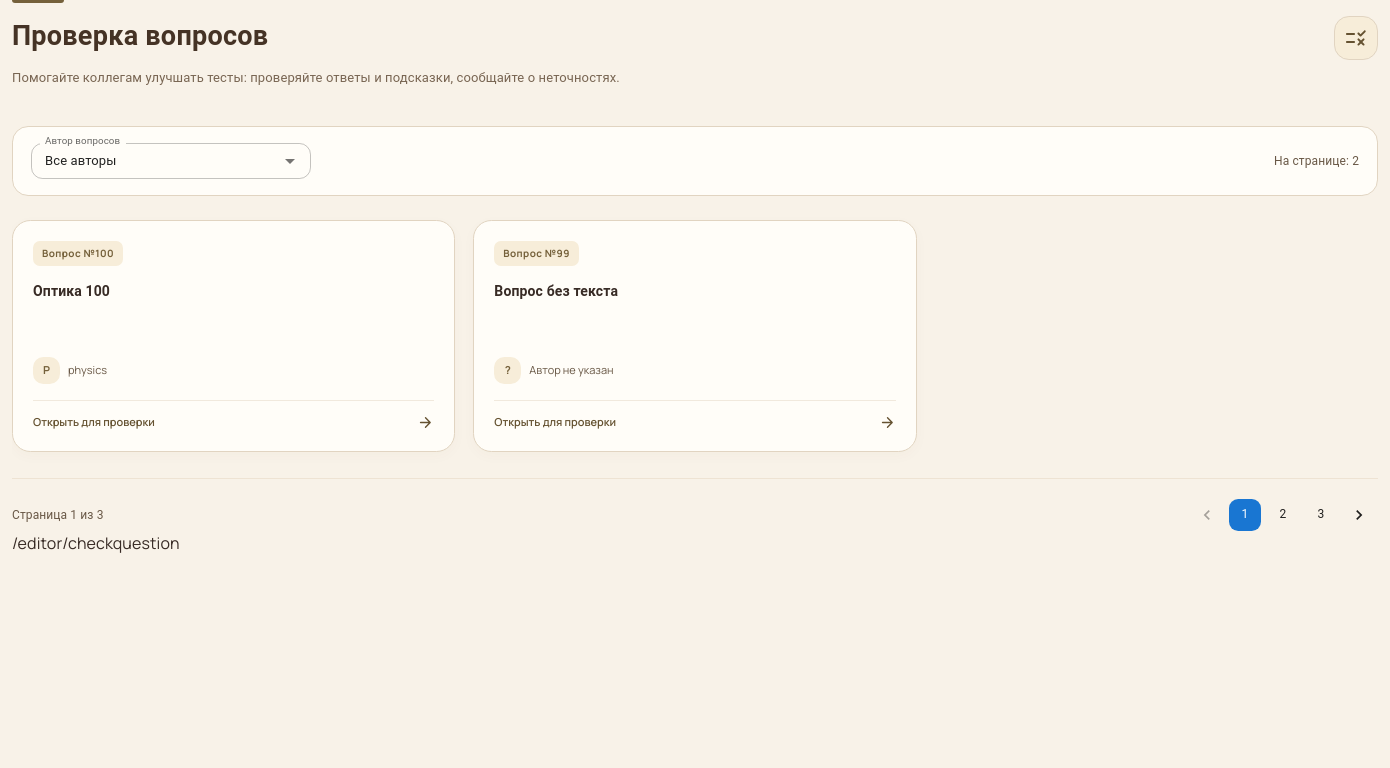
Test: network failures retry the selected filters and empty results can refresh
Click the button named "Выбрать автора". click: (290, 161)
box: x1=276 y1=147 x2=304 y2=175
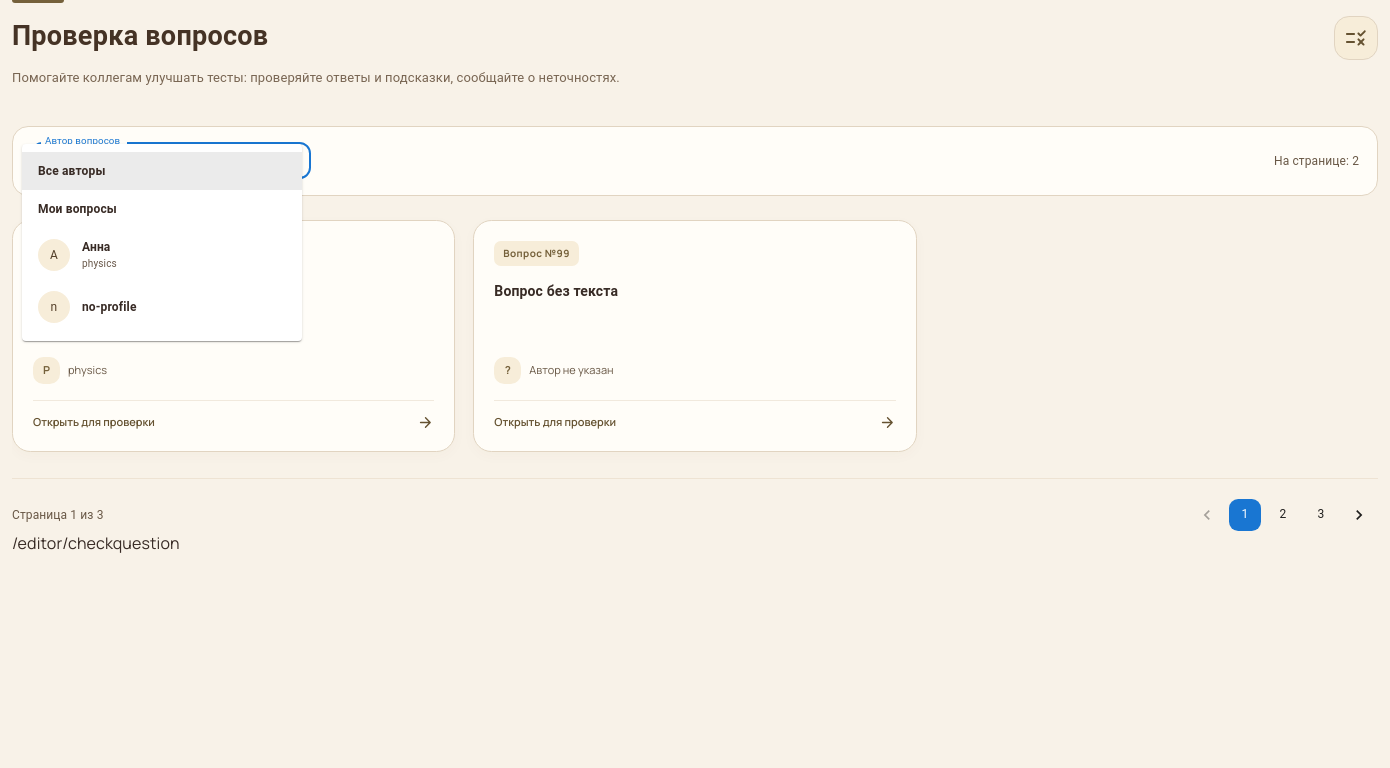
Click the option "А Анна physics". click: (54, 254)
box: x1=38 y1=238 x2=117 y2=270
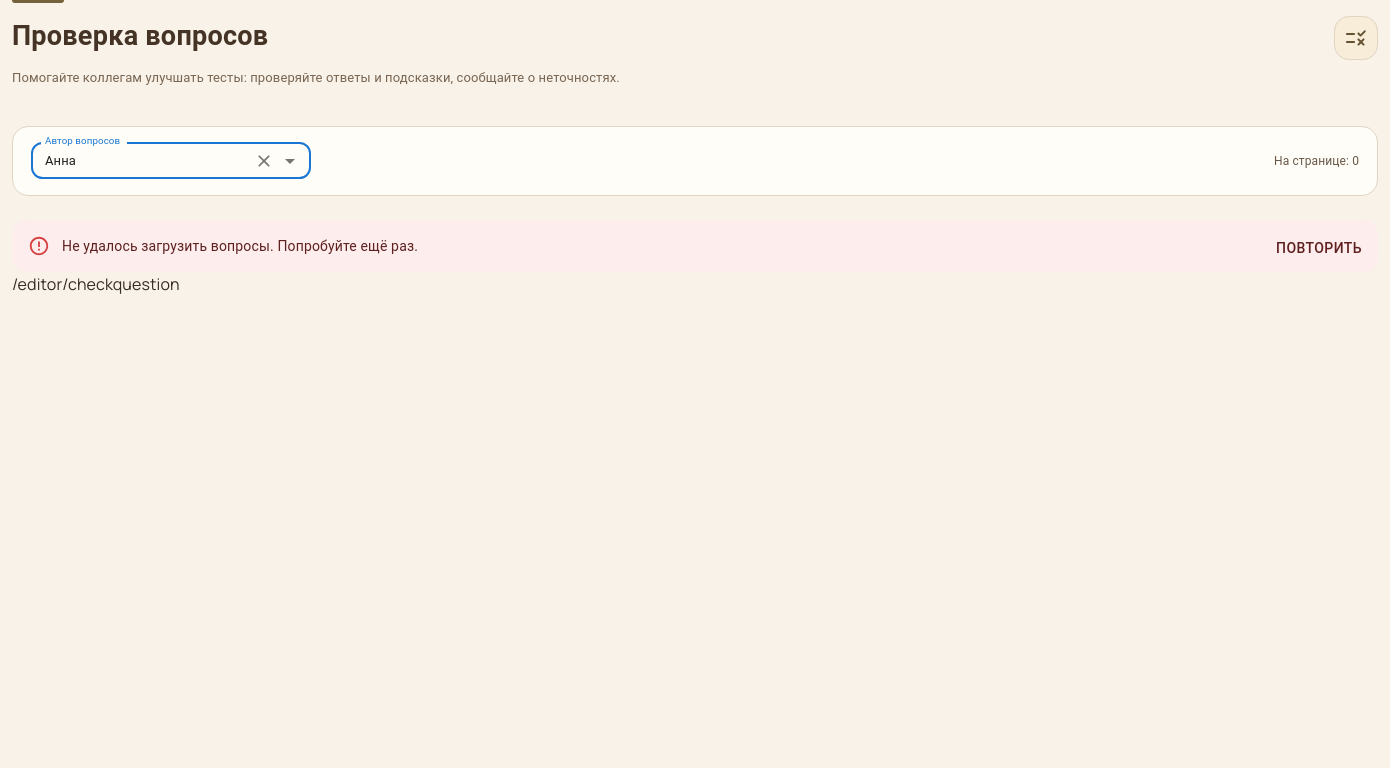
Expected: the text "Не удалось загрузить вопросы" is shown, x1=62 y1=238 x2=418 y2=254
Click the button "Повторить". click: (1319, 248)
box: x1=1268 y1=230 x2=1370 y2=266
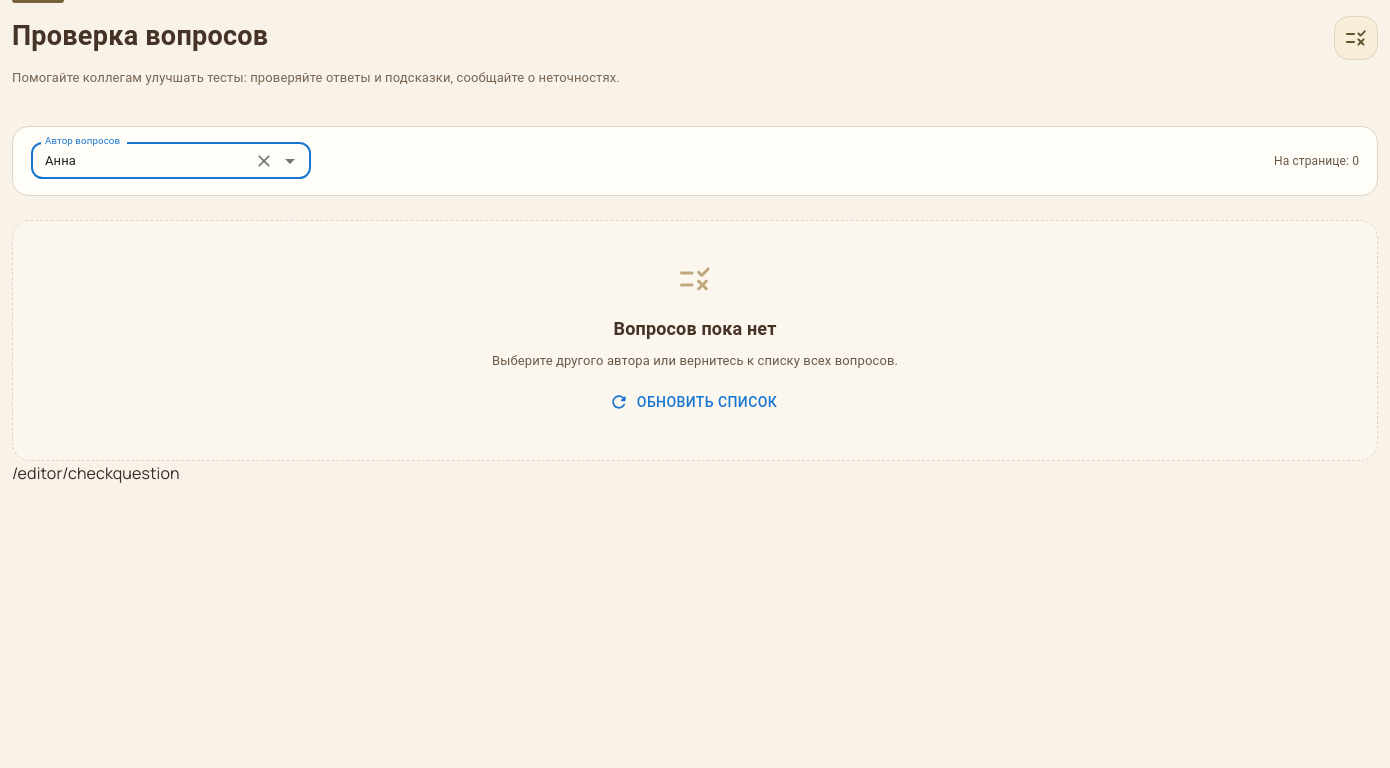
Expected: the text "Вопросов пока нет" is shown, x1=614 y1=318 x2=776 y2=339
Click the button "Обновить список". click: (695, 402)
box: x1=605 y1=384 x2=785 y2=420
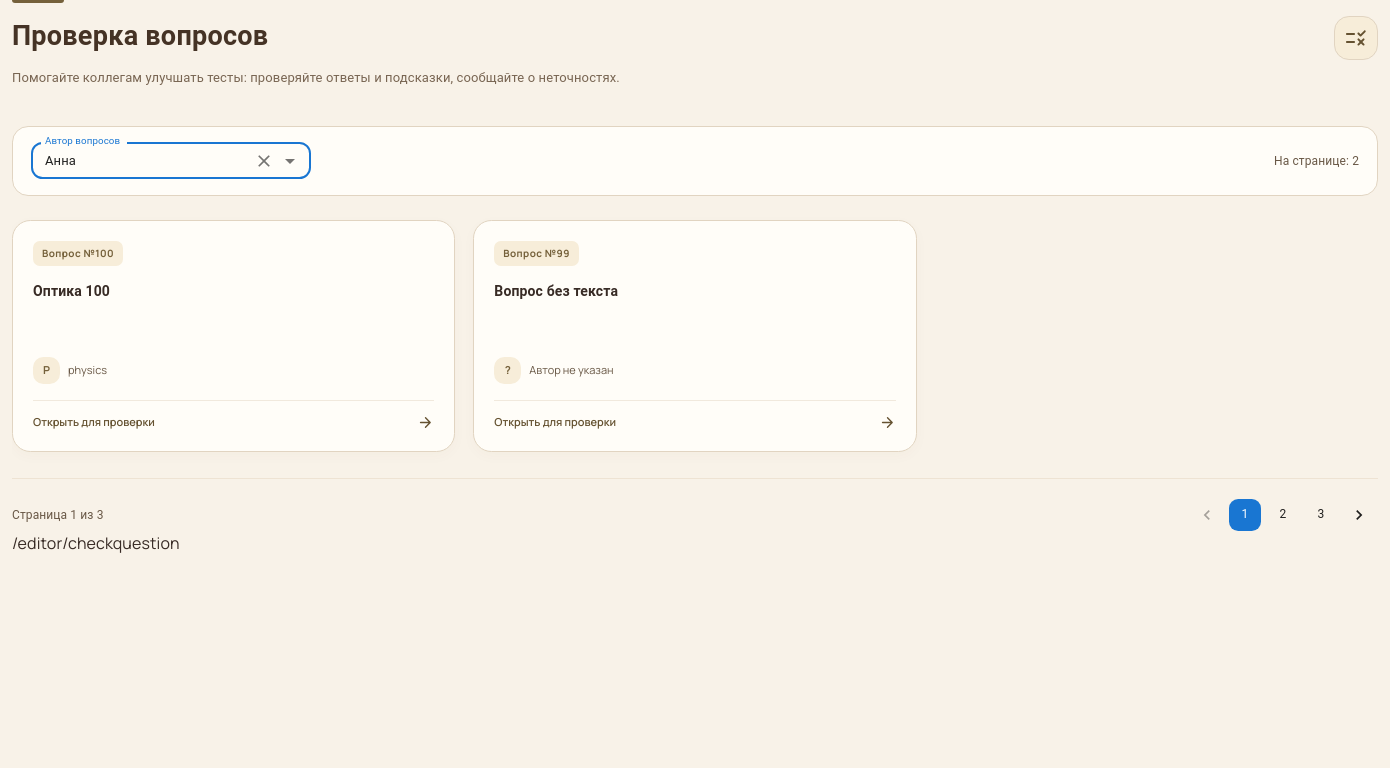
Expected: the element with class "sw-review-question-grid" shows "Оптика 100", x1=13 y1=221 x2=454 y2=451
